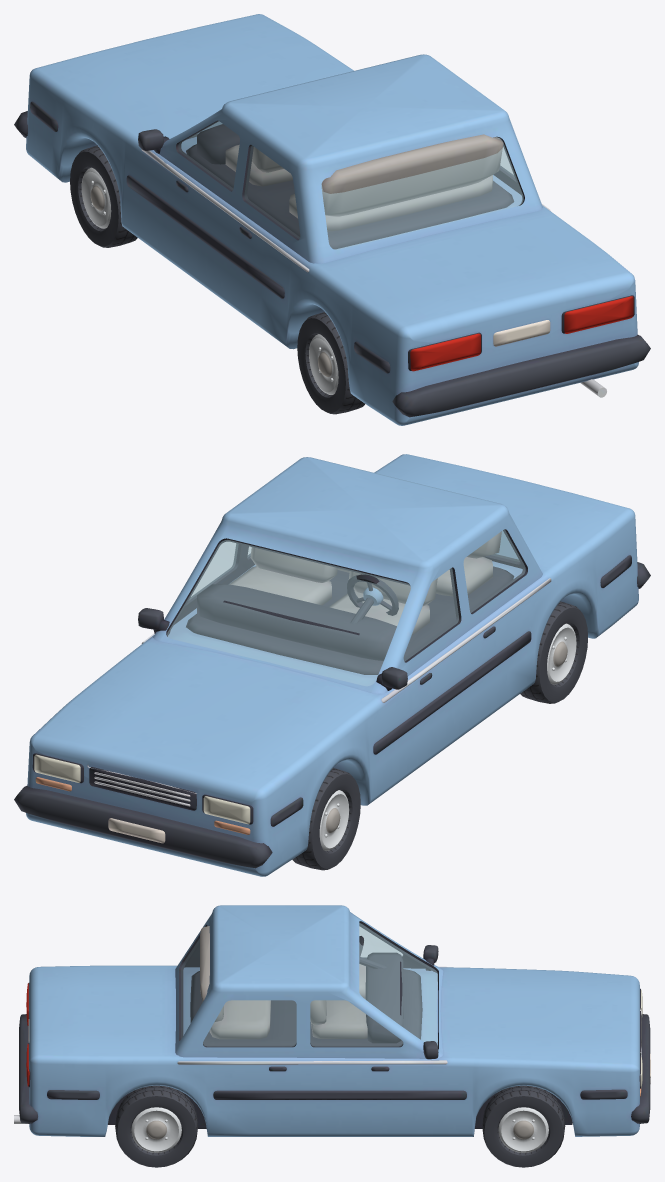
Rendered from sedan_80.glb.
3 renders of one model, top to bottom at view 1: azimuth 30°, elevation 25°; view 2: azimuth 150°, elevation 25°; view 3: azimuth 270°, elevation 25°, orthographic. The views are drawn at different scales.
Parts seen in each view (by area): view 1: Body, Wheel_RR, Wheel_FR; view 2: Body, Wheel_FR, Wheel_RR; view 3: Body, Wheel_FL, Wheel_RL.
Part boxes in pixels (box(x1,y1,x2,y2)): Body: box(14, 14, 650, 425); Wheel_RR: box(297, 312, 364, 414); Wheel_FR: box(70, 145, 137, 247); Body: box(14, 454, 650, 876); Wheel_FR: box(292, 768, 360, 870); Wheel_RR: box(520, 601, 587, 703); Body: box(14, 905, 650, 1136); Wheel_FL: box(482, 1085, 565, 1167); Wheel_RL: box(115, 1085, 197, 1167).
Bounding box in the file's own units: 1.79 × 1.41 × 4.6.
8 materials, 2 textured.
